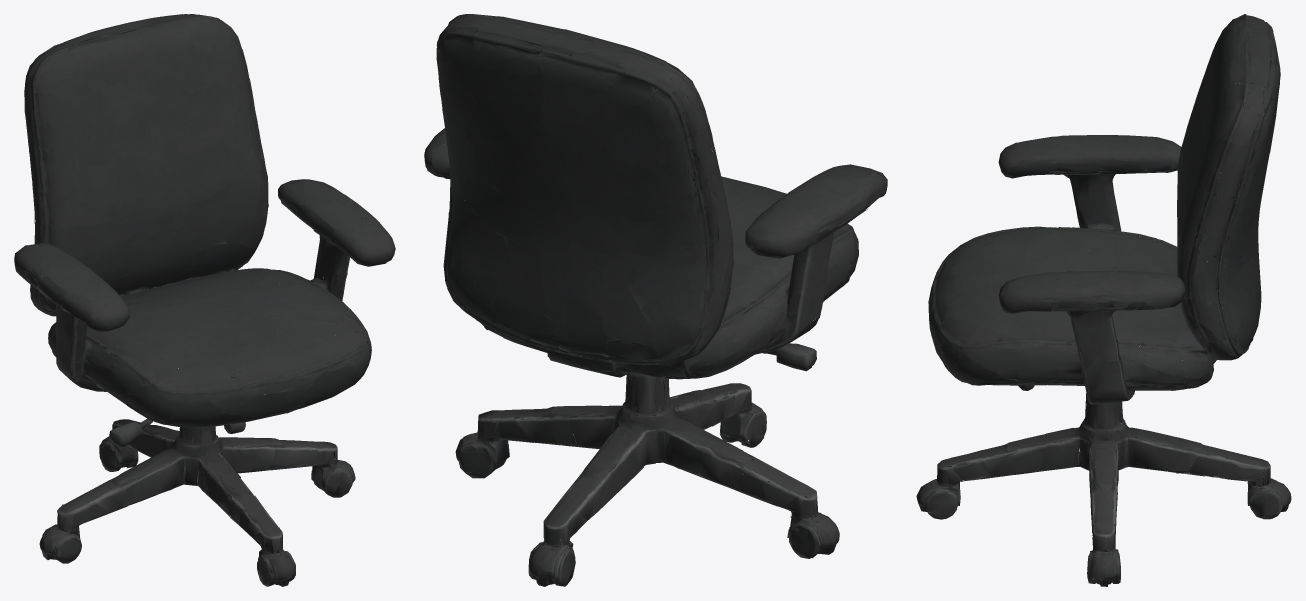
File: office-chair.glb
The picture shows the model from 3 angles, left to right: view 1: azimuth 30°, elevation 25°; view 2: azimuth 150°, elevation 25°; view 3: azimuth 270°, elevation 25°; orthographic projection. The views are drawn at different scales.
Visible parts, largest first — view 1: Office chair · Vinay; view 2: Office chair · Vinay; view 3: Office chair · Vinay.
Part boxes in pixels (x1,y1,x2,y2): Office chair · Vinay: (14,14,395,586); Office chair · Vinay: (424,14,887,586); Office chair · Vinay: (916,14,1291,586).
Bounding box in the file's own units: 0.7329 × 0.9814 × 0.7179.
1 material, 1 textured.
